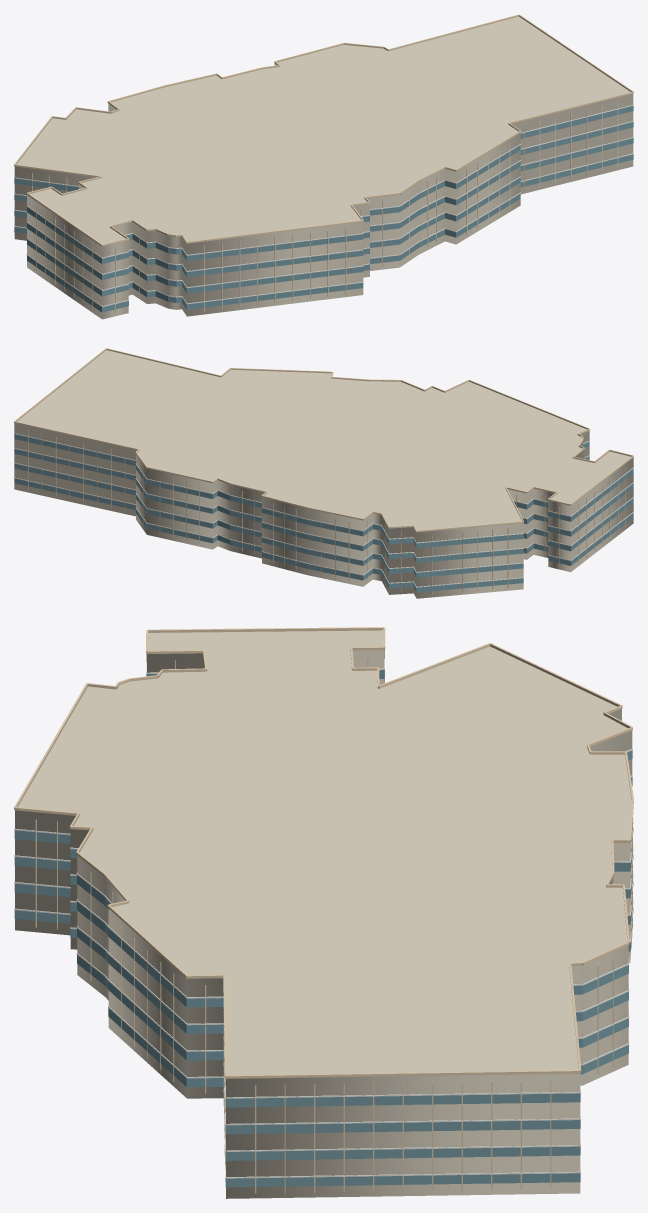
The model's file is dlf-mall-of-india.glb.
3 renders of one model, top to bottom at view 1: azimuth 30°, elevation 25°; view 2: azimuth 150°, elevation 25°; view 3: azimuth 270°, elevation 25°, orthographic. The views are drawn at different scales.
Visible parts, largest first — view 1: NCR_dlf-mall-of-india; view 2: NCR_dlf-mall-of-india; view 3: NCR_dlf-mall-of-india.
Part boxes in pixels (left/top/right/bottom): NCR_dlf-mall-of-india: left=14, top=14, right=633, bottom=319; NCR_dlf-mall-of-india: left=14, top=348, right=633, bottom=598; NCR_dlf-mall-of-india: left=14, top=627, right=633, bottom=1198.
Size of the model in its own units: 235 by 30 by 137.
